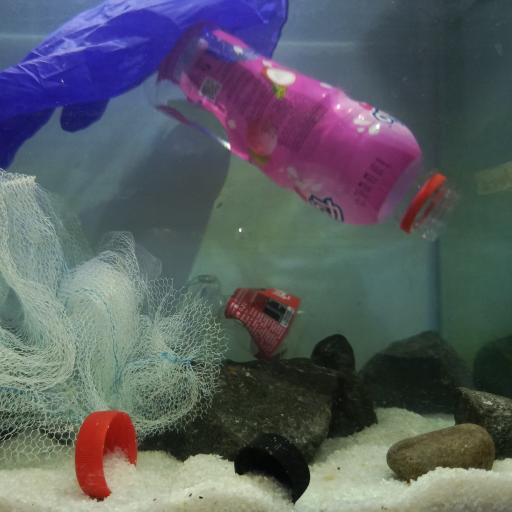bottle_cap: (232, 430, 312, 505), (74, 410, 138, 497)
glove: (0, 0, 288, 163)
net: (0, 168, 231, 461)
plastic_bottle: (150, 14, 461, 244), (180, 269, 329, 361)
